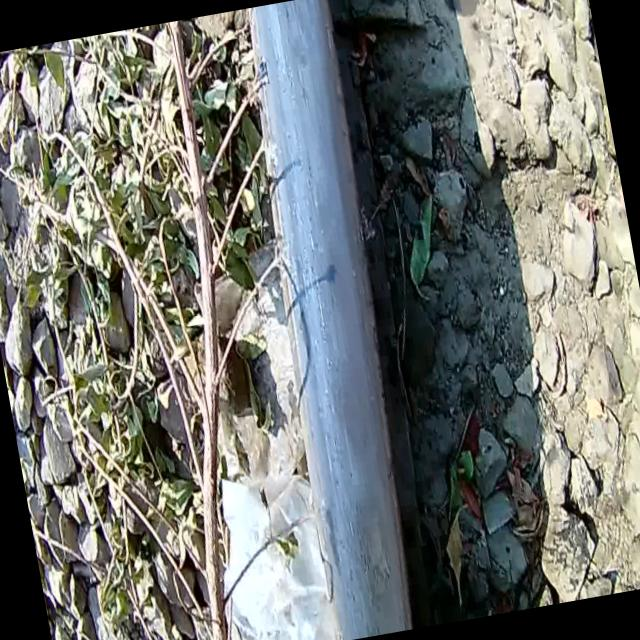Squats: (204, 0, 459, 640)
